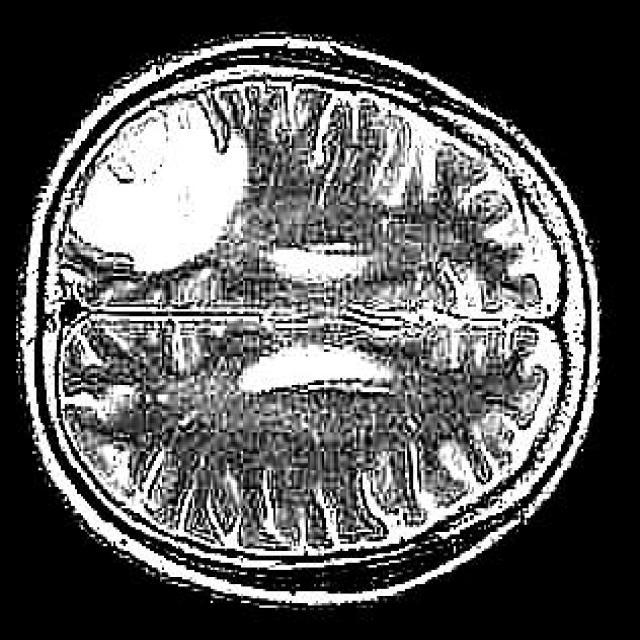tumor: (71, 95, 249, 273)
